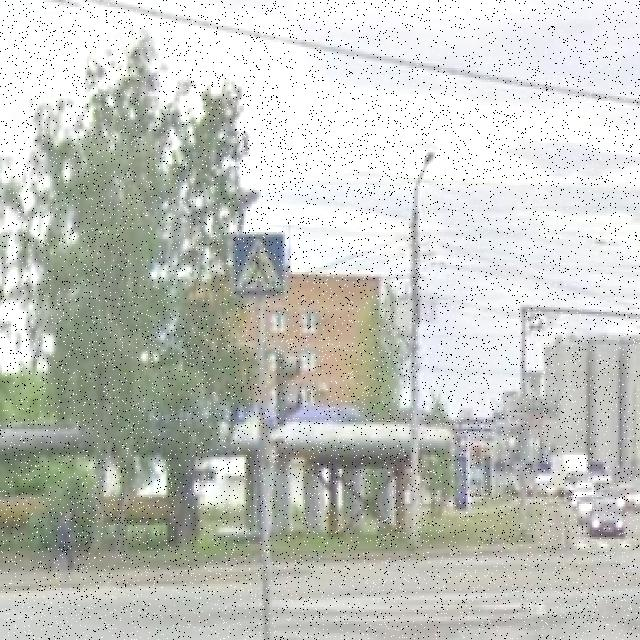Przejscie dla pieszych: (228, 228, 290, 302)
